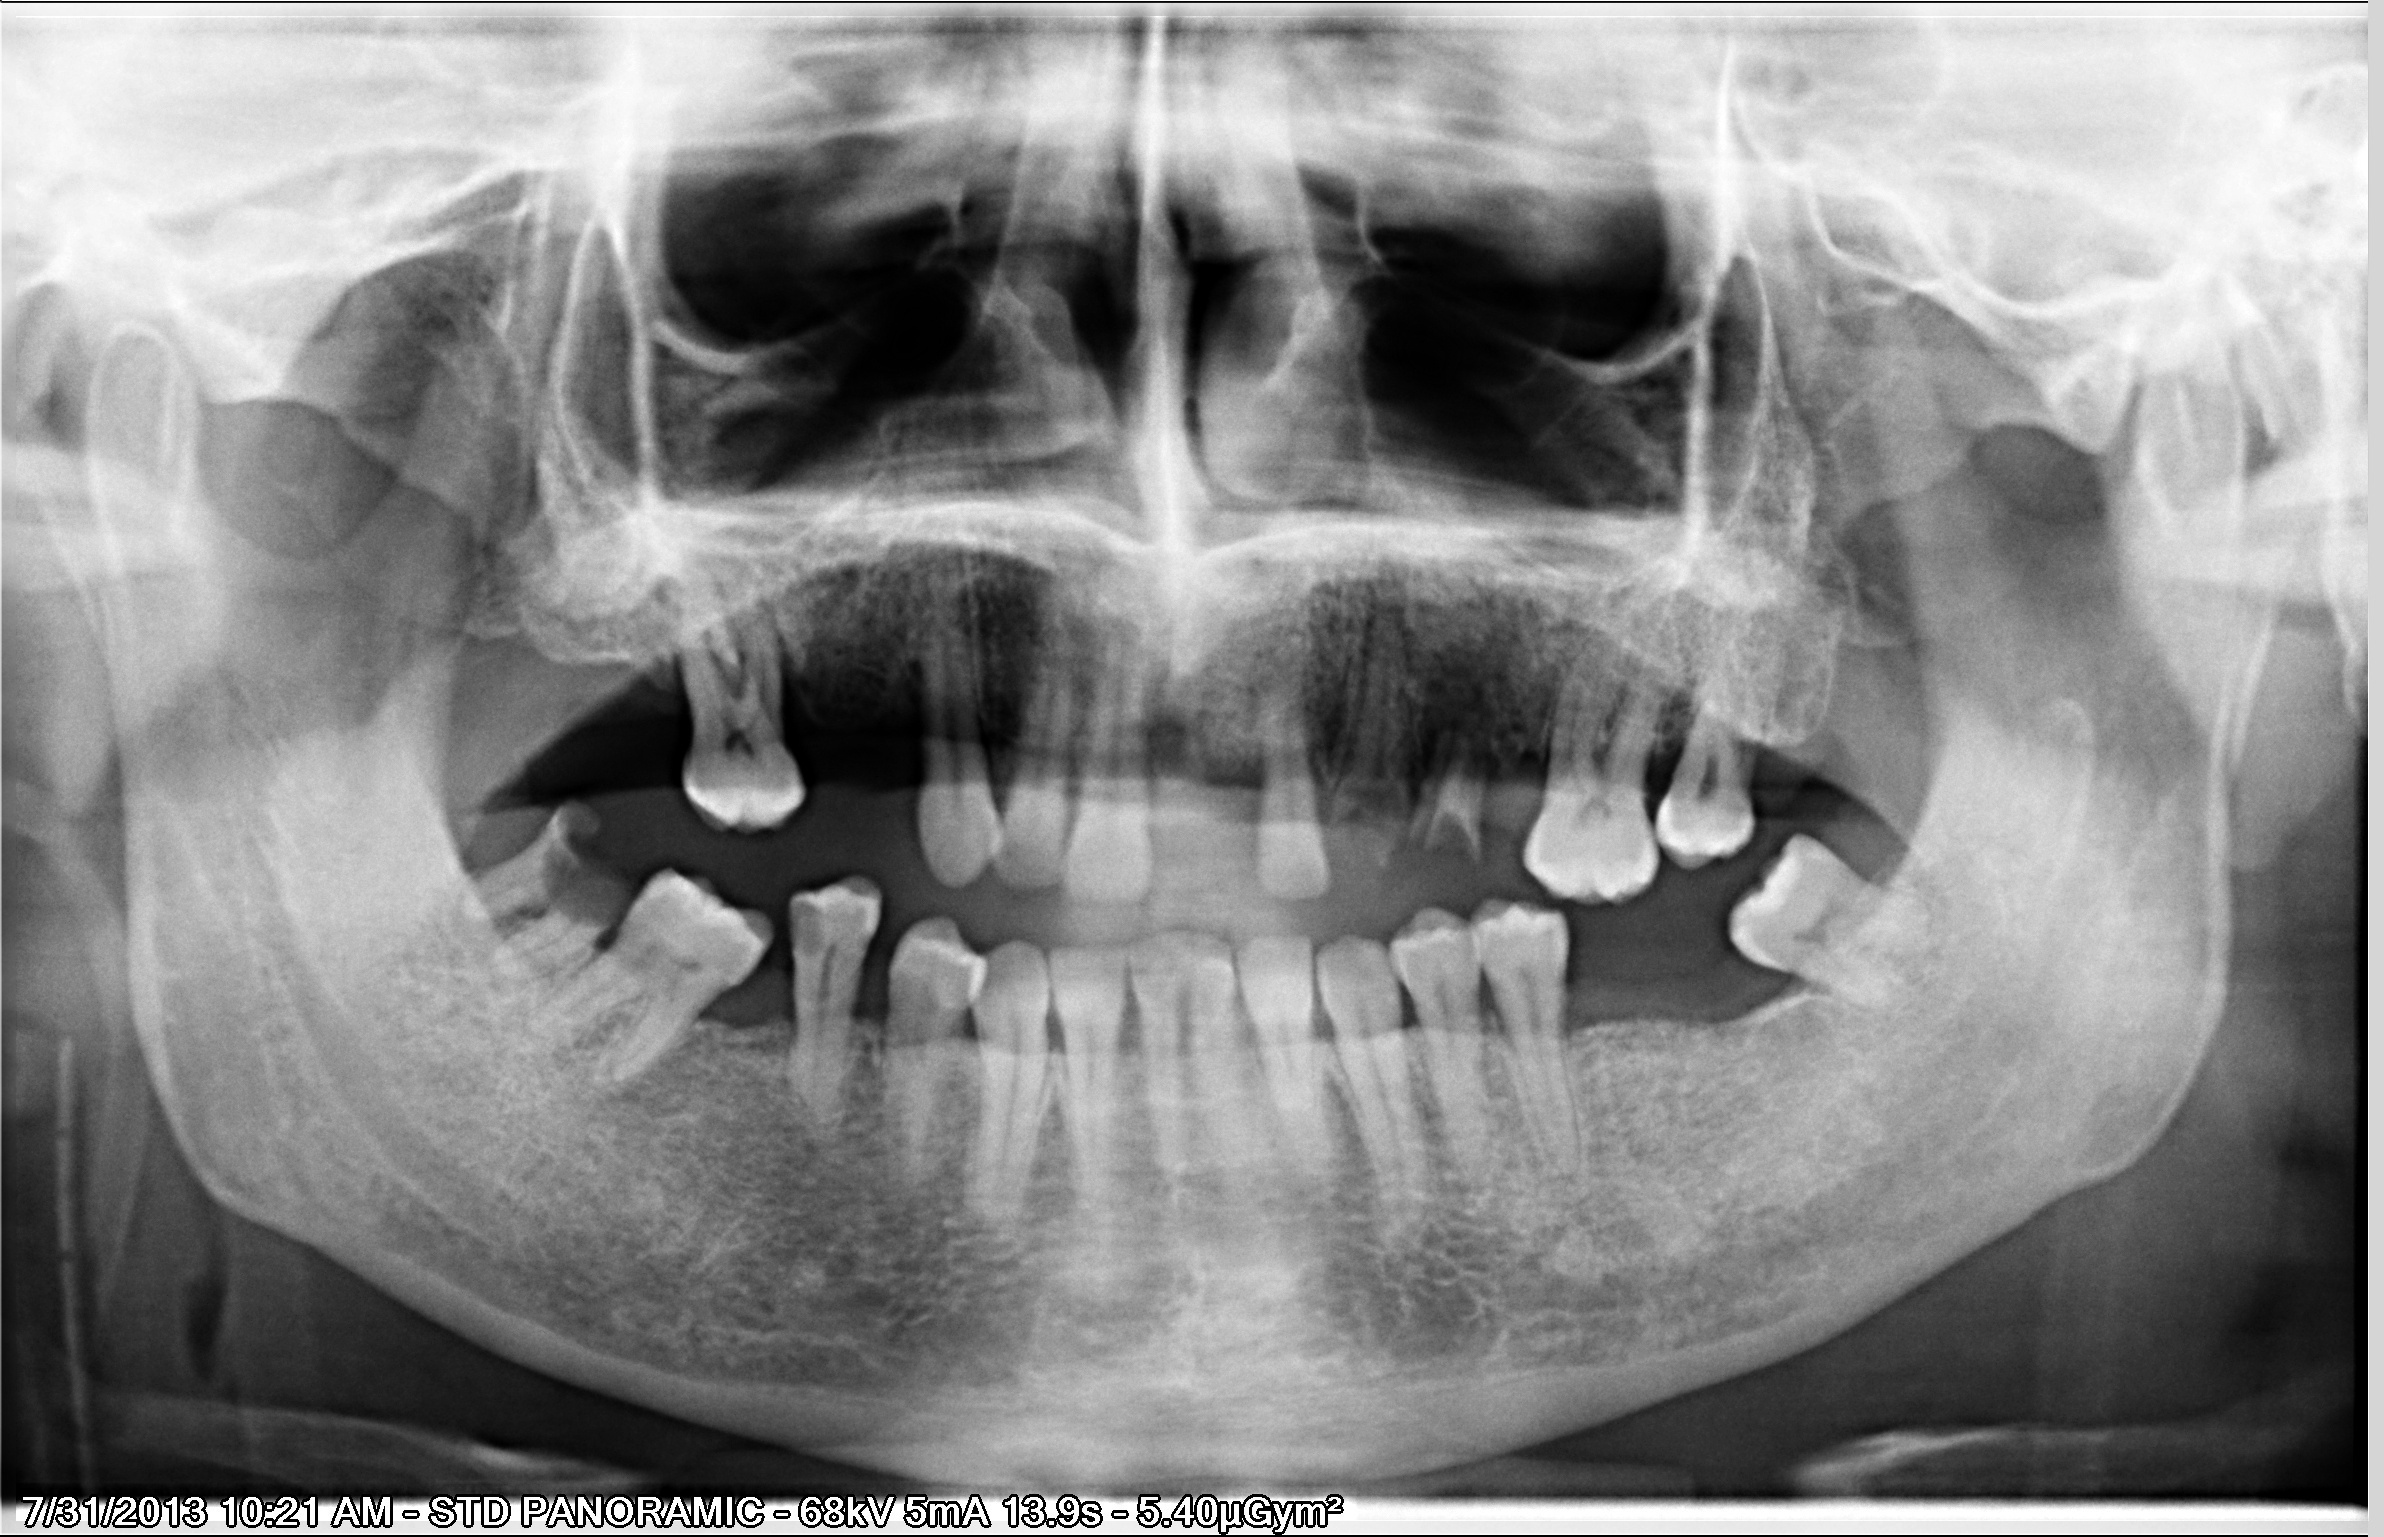API: (660, 241, 2068, 875)
BON: (367, 257, 1182, 978)
CAR: (627, 346, 2030, 1212)
FUR: (215, 436, 766, 1374)
ROT: (681, 283, 2169, 1139)
